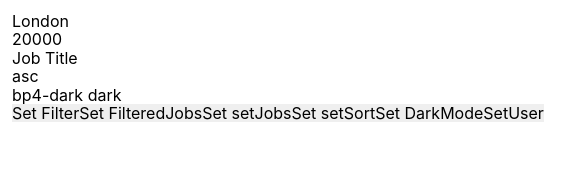
it: GeneralProvider › set the Jobs
Click the button "Set setJobs" at (247, 113), box [202,104,292,122]
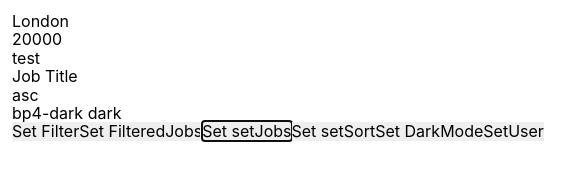
Result: the text with test id "jobs" reads "test" at [12,48,40,68]
